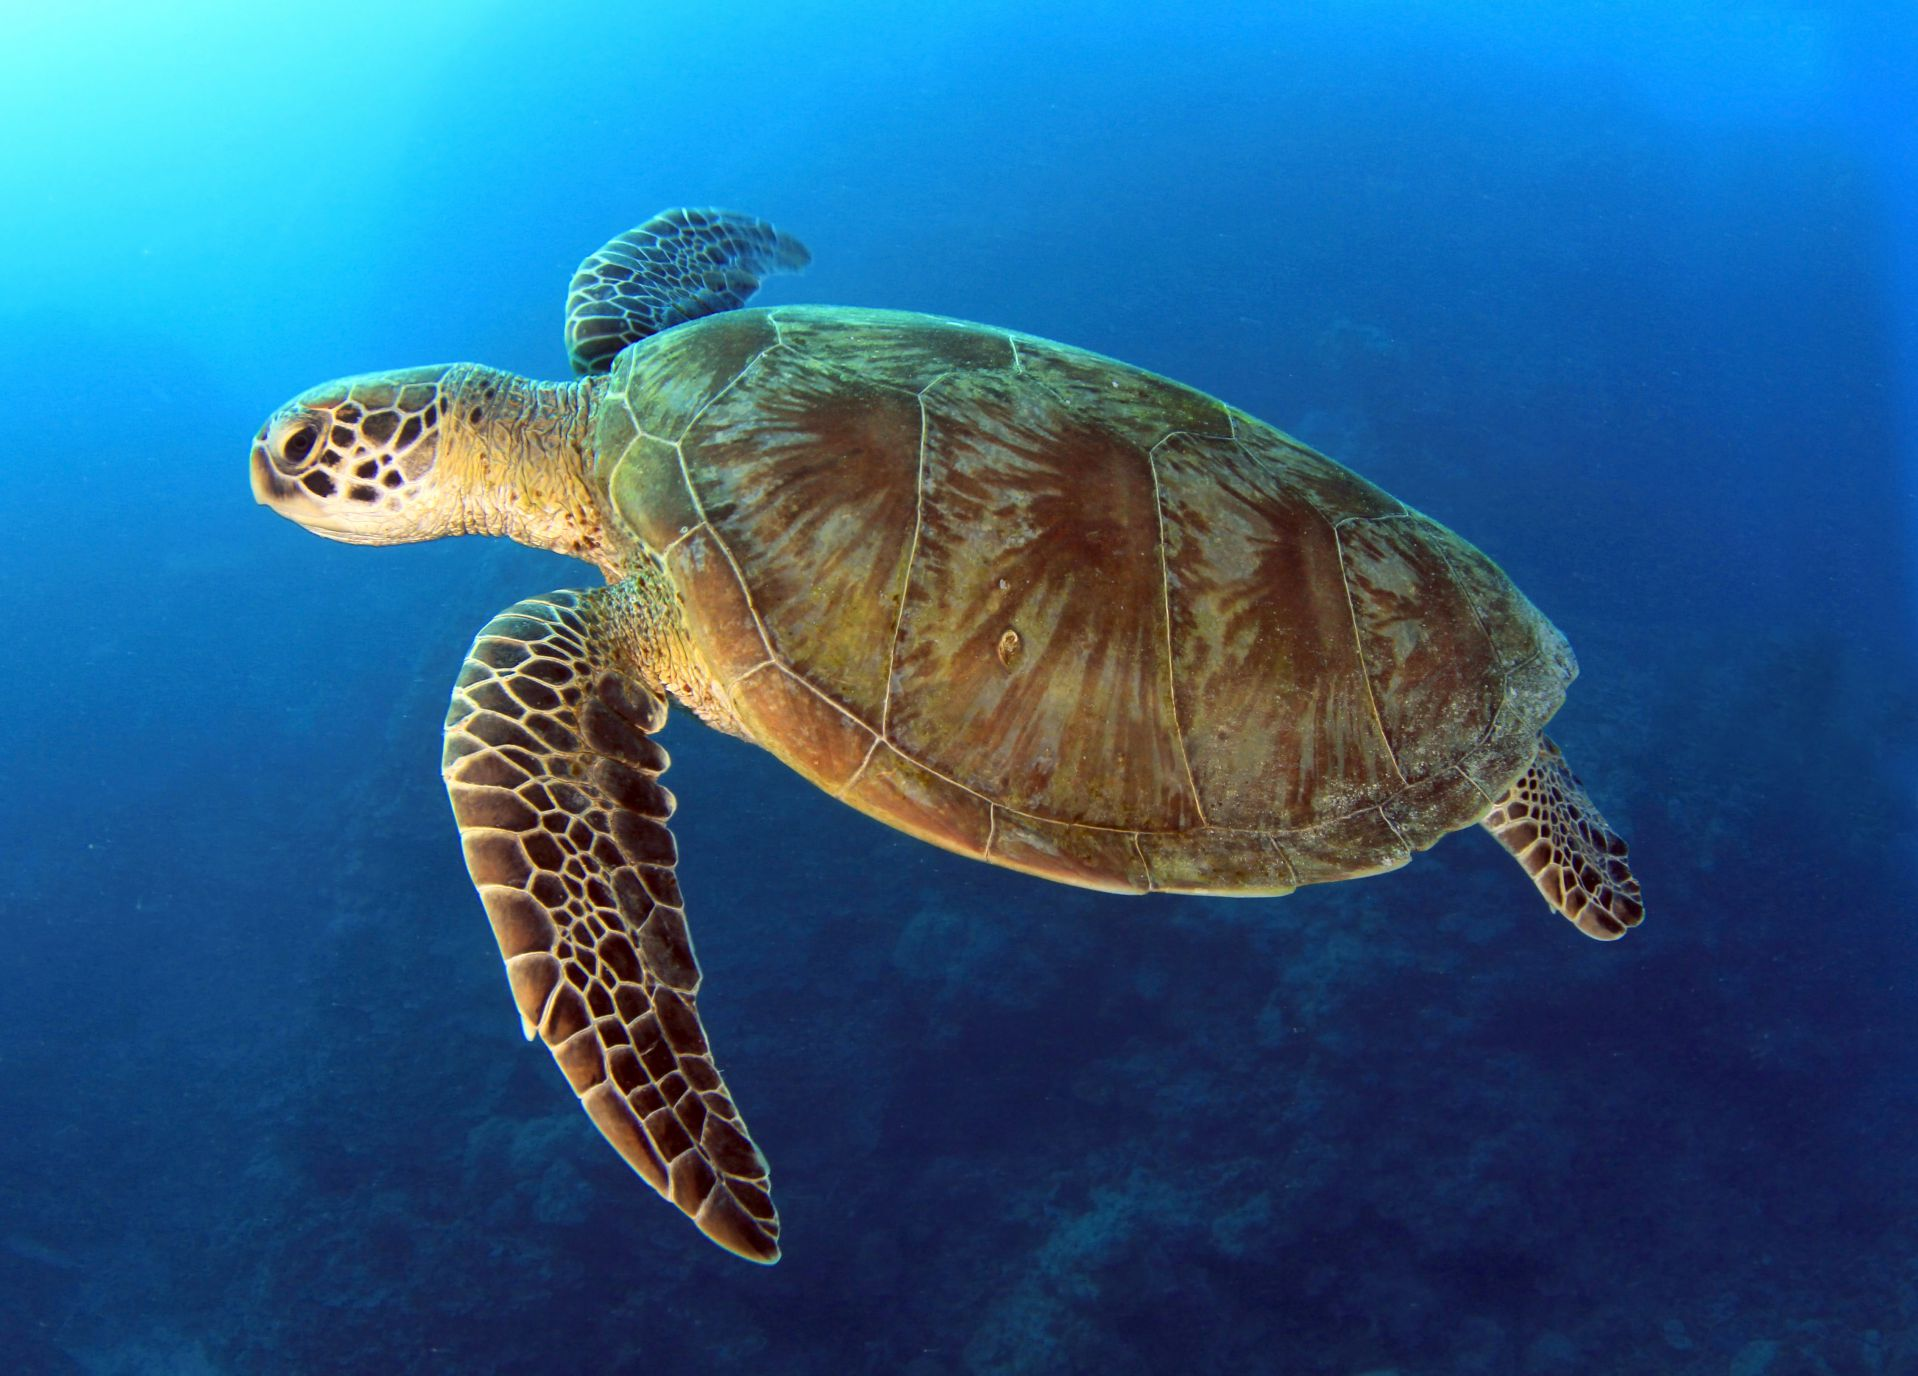eye: (271, 419, 333, 469)
mouth: (257, 499, 410, 546)
